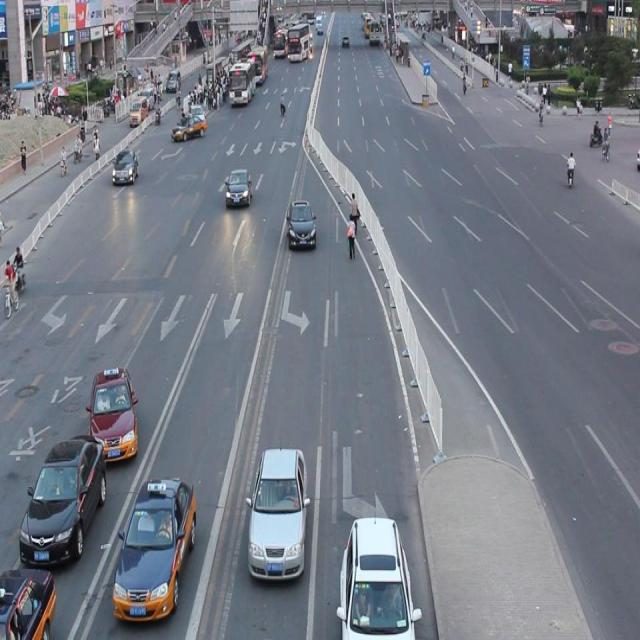car: (112, 472, 196, 621), (20, 432, 106, 566), (338, 512, 416, 640), (246, 442, 308, 583), (89, 365, 139, 463), (1, 565, 56, 640), (286, 198, 316, 251), (224, 167, 253, 209), (111, 147, 140, 186)
